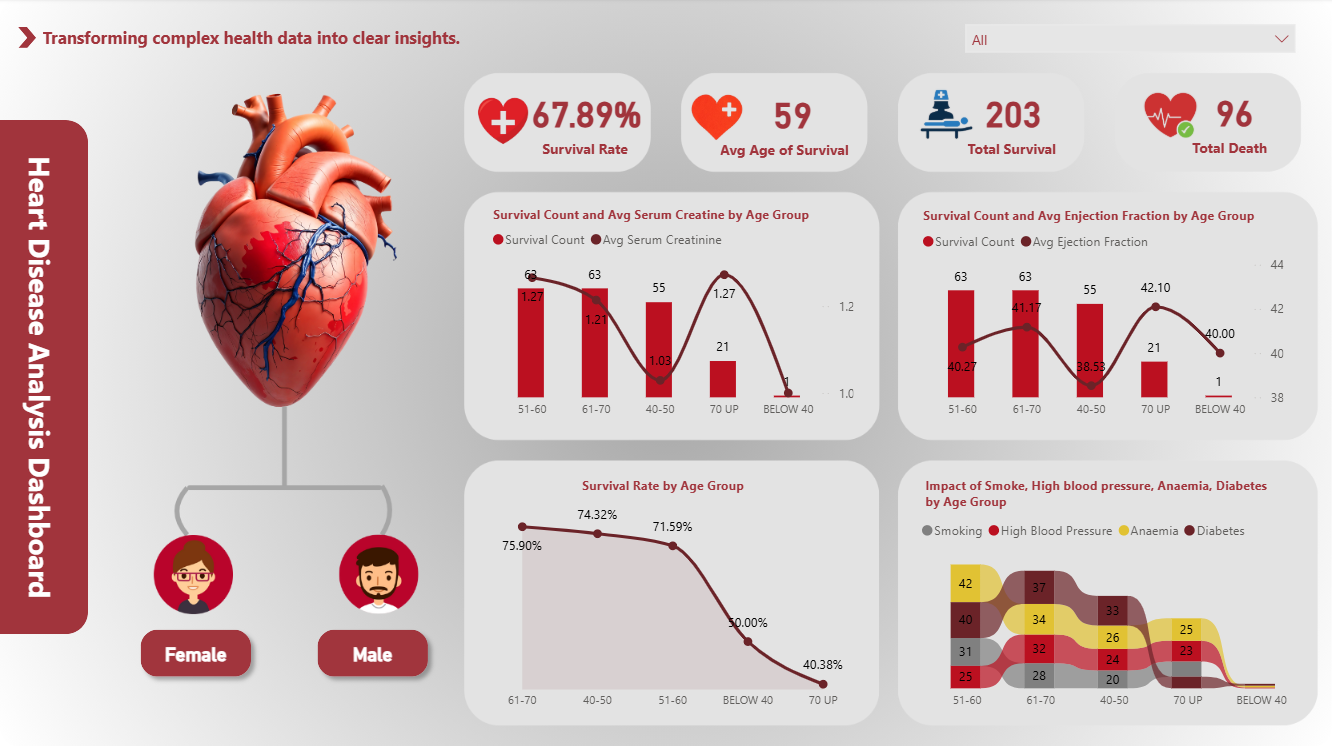

Layout of this report page (visuals, bound fields, positions):
{"tool":"powerbi","page":{"name":"Heart Disease Analysis Dashboard","canvas":[1280,720],"ordinal":0},"visuals":[{"type":"shape","box":[17.5,5.9,448.4,63.2],"z":0,"group":"g1"},{"type":"card","fields":{"Values":["_Measures.Total_Death"]},"box":[1118.5,53.5,135.2,109.9],"z":0,"group":"g5"},{"type":"card","fields":{"Values":["_Measures.Average_Age_Servival"]},"box":[693.8,54.3,134.5,110.5],"z":0,"group":"g3"},{"type":"card","fields":{"Values":["_Measures.Survival_Rate"]},"box":[495.6,54.4,135.2,109.9],"z":0,"group":"g7"},{"type":"card","fields":{"Values":["_Measures.Total_Survivor"]},"box":[906.5,54.5,135.2,109.9],"z":0,"group":"g4"},{"type":"advancedSlicerVisual","fields":{"Values":["heart_Disease_clinical_records_.GENDER"]},"box":[118.7,590.4,310.3,79.8],"z":0},{"type":"shape","box":[17.5,28.3,17.5,20.4],"z":1000,"group":"g1"},{"type":"shape","box":[0,117.7,84.6,494.1],"z":1000},{"type":"shape","box":[1122.4,129.4,118.7,26.3],"z":1000,"group":"g5"},{"type":"shape","box":[912.4,130.3,118.7,26.3],"z":1000,"group":"g4"},{"type":"shape","box":[680.8,132.3,146.9,24.3],"z":1000,"group":"g3"},{"type":"slicer","fields":{"Values":["heart_Disease_clinical_records_.GENDER"]},"box":[918.2,15.6,336.5,43.8],"z":2000},{"type":"image","box":[642.9,41.8,92.4,141],"z":2000,"group":"g3"},{"type":"image","box":[871.5,53.5,75.9,115.7],"z":2000,"group":"g4"},{"type":"image","box":[1087.4,56.4,73.9,111.9],"z":2000,"group":"g5"},{"type":"group","id":"g1","title":"Group 2","box":[17.5,5.9,448.4,63.2],"z":3000},{"type":"lineClusteredColumnComboChart","fields":{"Category":["heart_Disease_clinical_records_.AGE_GROUPS"],"Y":["CountNonNull(heart_Disease_clinical_records_.DEATH_EVENT)"],"Y2":["Avg(heart_Disease_clinical_records_.serum_creatinine)"]},"box":[467.8,213.1,357,200.4],"z":3000,"group":"g6"},{"type":"group","id":"g2","title":"Group 3","box":[430.3,54.4,200.5,113],"z":4000},{"type":"lineClusteredColumnComboChart","fields":{"Category":["heart_Disease_clinical_records_.AGE_GROUPS"],"Y":["CountNonNull(heart_Disease_clinical_records_.DEATH_EVENT)"],"Y2":["Avg(heart_Disease_clinical_records_.ejection_fraction)"]},"box":[881.2,214.9,357,198.4],"z":4000,"group":"g8"},{"type":"group","id":"g3","title":"Group 4","box":[642.9,41.8,185.5,141],"z":5000},{"type":"lineChart","fields":{"Category":["heart_Disease_clinical_records_.AGE_GROUPS"],"Y":["_Measures.Survival_Rate"]},"box":[467.8,476.7,357,215.9],"z":5000,"group":"g9"},{"type":"group","id":"g4","title":"Group 5","box":[871.5,53.5,170.2,115.7],"z":6000},{"type":"ribbonChart","fields":{"Category":["heart_Disease_clinical_records_.AGE_GROUPS"],"Y":["Sum(heart_Disease_clinical_records_.smoking)","Sum(heart_Disease_clinical_records_.high_blood_pressure)","Sum(heart_Disease_clinical_records_.anaemia)","Sum(heart_Disease_clinical_records_.diabetes)"]},"box":[880.2,492.2,381.3,200.4],"z":6000,"group":"g10"},{"type":"group","id":"g5","title":"Group 6","box":[1087.4,53.5,166.3,114.8],"z":7000},{"type":"group","id":"g6","title":"Group 7","box":[467.8,193.6,357,219.8],"z":8000},{"type":"group","id":"g7","title":"Group 1","box":[495.6,54.4,135.2,109.9],"z":9000,"group":"g2"},{"type":"group","id":"g8","title":"Group 8","box":[881.2,194.5,357,218.8],"z":9000},{"type":"image","box":[430.3,67.4,106.7,99.9],"z":10000,"group":"g2"},{"type":"shape","box":[502.3,131.3,119.2,25.9],"z":10000,"group":"g7"},{"type":"group","id":"g9","title":"Group 9","box":[467.8,453.3,357,239.3],"z":10000},{"type":"shape","box":[471.7,193.6,348.2,28.2],"z":10007,"group":"g6"},{"type":"shape","box":[885.1,194.5,348.2,28.2],"z":10008,"group":"g8"},{"type":"shape","box":[557.3,453.3,179,28.2],"z":10009,"group":"g9"},{"type":"shape","box":[886,453.3,339.5,44.7],"z":10010,"group":"g10"},{"type":"group","id":"g10","title":"Group 10","box":[880.2,453.3,381.3,239.3],"z":11000}]}

Visuals, with their boxes in screenshot pixels (x1, y1, x2, y2), scaled from the page's 1280x720 canvas onto the 1332x746 screenshot:
shape: {"left": 18, "top": 6, "right": 485, "bottom": 72}
card - _Measures.Total_Death: {"left": 1164, "top": 55, "right": 1305, "bottom": 169}
card - _Measures.Average_Age_Servival: {"left": 722, "top": 56, "right": 862, "bottom": 171}
card - _Measures.Survival_Rate: {"left": 516, "top": 56, "right": 656, "bottom": 170}
card - _Measures.Total_Survivor: {"left": 943, "top": 56, "right": 1084, "bottom": 170}
advancedSlicerVisual - heart_Disease_clinical_records_.GENDER: {"left": 124, "top": 612, "right": 446, "bottom": 694}
shape: {"left": 18, "top": 29, "right": 36, "bottom": 50}
shape: {"left": 0, "top": 122, "right": 88, "bottom": 634}
shape: {"left": 1168, "top": 134, "right": 1292, "bottom": 161}
shape: {"left": 949, "top": 135, "right": 1073, "bottom": 162}
shape: {"left": 708, "top": 137, "right": 861, "bottom": 162}
slicer - heart_Disease_clinical_records_.GENDER: {"left": 956, "top": 16, "right": 1306, "bottom": 62}
image: {"left": 669, "top": 43, "right": 765, "bottom": 189}
image: {"left": 907, "top": 55, "right": 986, "bottom": 175}
image: {"left": 1132, "top": 58, "right": 1208, "bottom": 174}
"Group 2" group: {"left": 18, "top": 6, "right": 485, "bottom": 72}
lineClusteredColumnComboChart - heart_Disease_clinical_records_.AGE_GROUPS x CountNonNull(heart_Disease_clinical_records_.DEATH_EVENT): {"left": 487, "top": 221, "right": 858, "bottom": 428}
"Group 3" group: {"left": 448, "top": 56, "right": 656, "bottom": 173}
lineClusteredColumnComboChart - heart_Disease_clinical_records_.AGE_GROUPS x CountNonNull(heart_Disease_clinical_records_.DEATH_EVENT): {"left": 917, "top": 223, "right": 1289, "bottom": 428}
"Group 4" group: {"left": 669, "top": 43, "right": 862, "bottom": 189}
lineChart - heart_Disease_clinical_records_.AGE_GROUPS x _Measures.Survival_Rate: {"left": 487, "top": 494, "right": 858, "bottom": 718}
"Group 5" group: {"left": 907, "top": 55, "right": 1084, "bottom": 175}
ribbonChart - heart_Disease_clinical_records_.AGE_GROUPS x Sum(heart_Disease_clinical_records_.smoking): {"left": 916, "top": 510, "right": 1313, "bottom": 718}
"Group 6" group: {"left": 1132, "top": 55, "right": 1305, "bottom": 174}
"Group 7" group: {"left": 487, "top": 201, "right": 858, "bottom": 428}
"Group 1" group: {"left": 516, "top": 56, "right": 656, "bottom": 170}
"Group 8" group: {"left": 917, "top": 202, "right": 1289, "bottom": 428}
image: {"left": 448, "top": 70, "right": 559, "bottom": 173}
shape: {"left": 523, "top": 136, "right": 647, "bottom": 163}
"Group 9" group: {"left": 487, "top": 470, "right": 858, "bottom": 718}
shape: {"left": 491, "top": 201, "right": 853, "bottom": 230}
shape: {"left": 921, "top": 202, "right": 1283, "bottom": 231}
shape: {"left": 580, "top": 470, "right": 766, "bottom": 499}
shape: {"left": 922, "top": 470, "right": 1275, "bottom": 516}
"Group 10" group: {"left": 916, "top": 470, "right": 1313, "bottom": 718}
